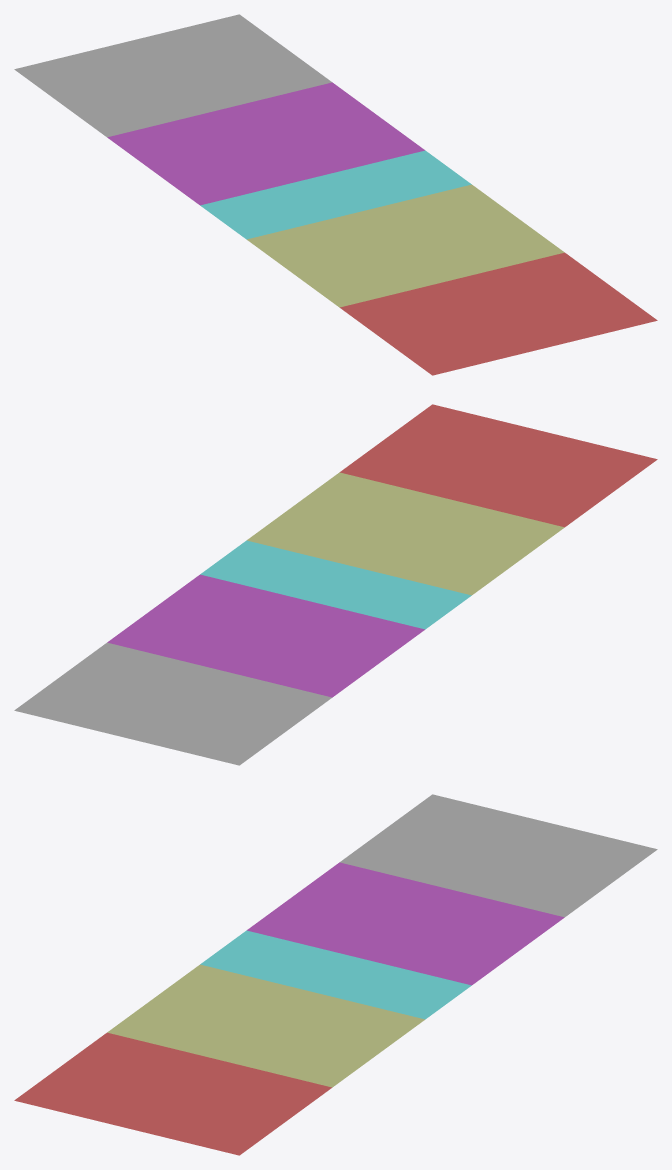
Rendered from ScreenCounting.fbx.
The picture shows the model from 3 angles, top to bottom: view 1: azimuth 30°, elevation 25°; view 2: azimuth 150°, elevation 25°; view 3: azimuth 330°, elevation 25°; orthographic projection.
Parts seen in each view (by area): view 1: NumberScreen; view 2: NumberScreen; view 3: NumberScreen.
Part boxes in pixels (x1,y1,x2,y2): NumberScreen: (14, 14, 657, 375); NumberScreen: (14, 404, 657, 765); NumberScreen: (14, 794, 657, 1155).
Bounding box in the file's own units: 0.7 × 0 × 2.25.
